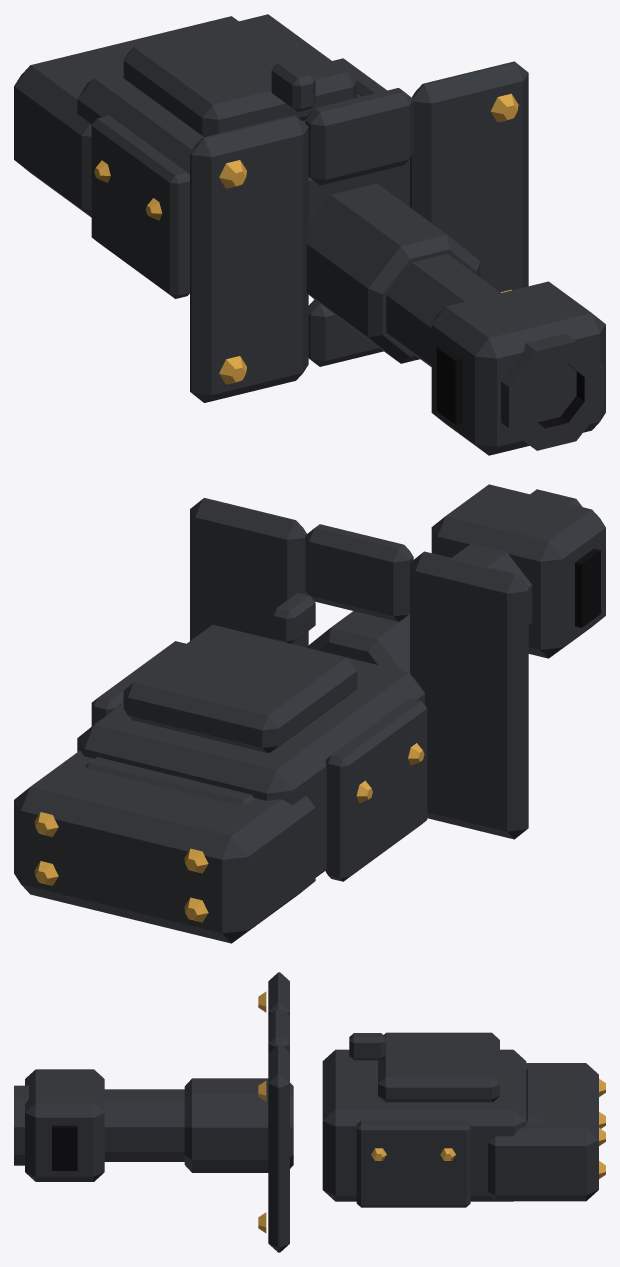
Rendered from GunB2.obj.
3 views of the same model, one above another, from view 1: azimuth 30°, elevation 25°; view 2: azimuth 150°, elevation 25°; view 3: azimuth 270°, elevation 25° (orthographic). The views are drawn at different scales.
Visible parts, largest first — view 1: GunB2; view 2: GunB2; view 3: GunB2.
Part boxes in pixels (<box>): GunB2: <box>14,14,605,455</box>; GunB2: <box>14,484,605,943</box>; GunB2: <box>14,972,605,1252</box>.
Size of the model in its own units: 0.864 by 0.648 by 1.96.
